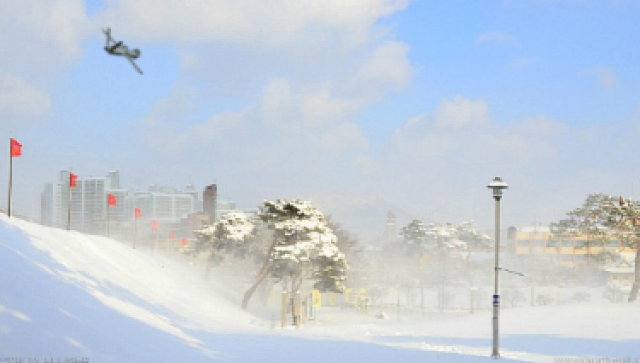military drone: (100, 25, 144, 75)
